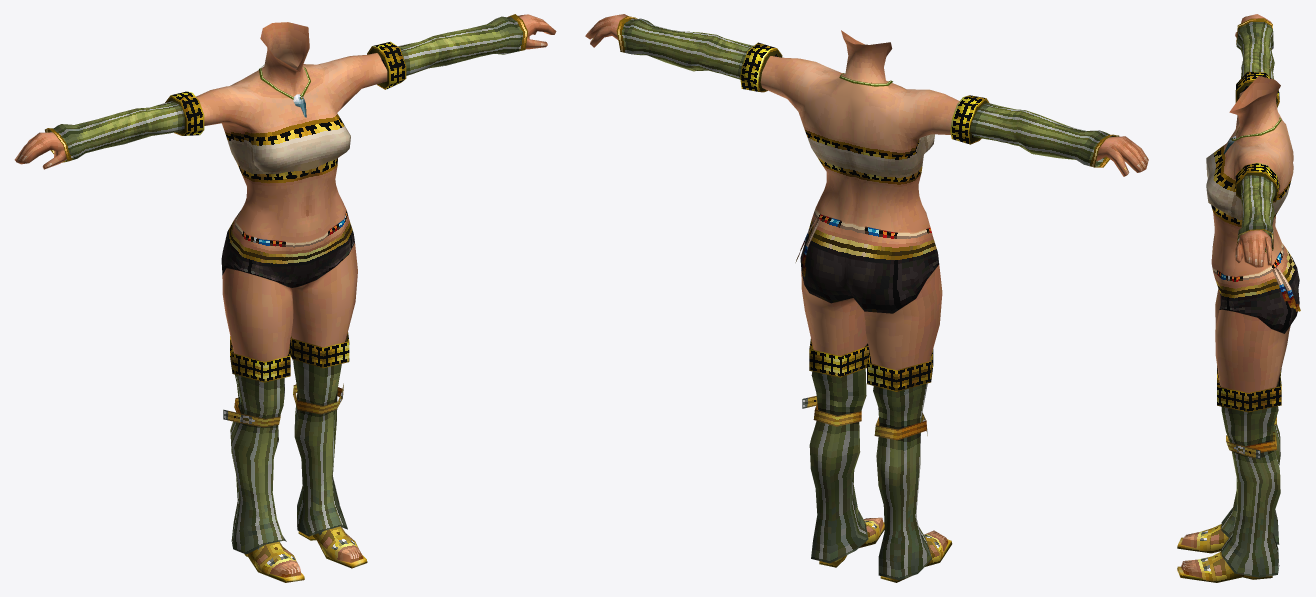
File: f_body025.obj
3 renders of one model, left to right at view 1: azimuth 30°, elevation 25°; view 2: azimuth 150°, elevation 25°; view 3: azimuth 270°, elevation 25°, orthographic. The views are drawn at different scales.
Visible parts, largest first — view 1: editpl_f-0000-95, editpl_f-0000-94, editpl_f-0000-93; view 2: editpl_f-0000-95, editpl_f-0000-94, editpl_f-0000-93; view 3: editpl_f-0000-95, editpl_f-0000-94, editpl_f-0000-93.
Boxes of the visible parts, box(x1,y1,x2,y2) form: editpl_f-0000-95: box(221, 210, 367, 582); editpl_f-0000-94: box(196, 22, 387, 242); editpl_f-0000-93: box(14, 14, 556, 169); editpl_f-0000-95: box(795, 208, 952, 582); editpl_f-0000-94: box(760, 30, 959, 232); editpl_f-0000-93: box(585, 14, 1148, 176); editpl_f-0000-95: box(1177, 243, 1300, 582); editpl_f-0000-94: box(1206, 76, 1293, 276); editpl_f-0000-93: box(1235, 14, 1279, 267).
Size of the model in its own units: 173 by 158 by 37.53.
